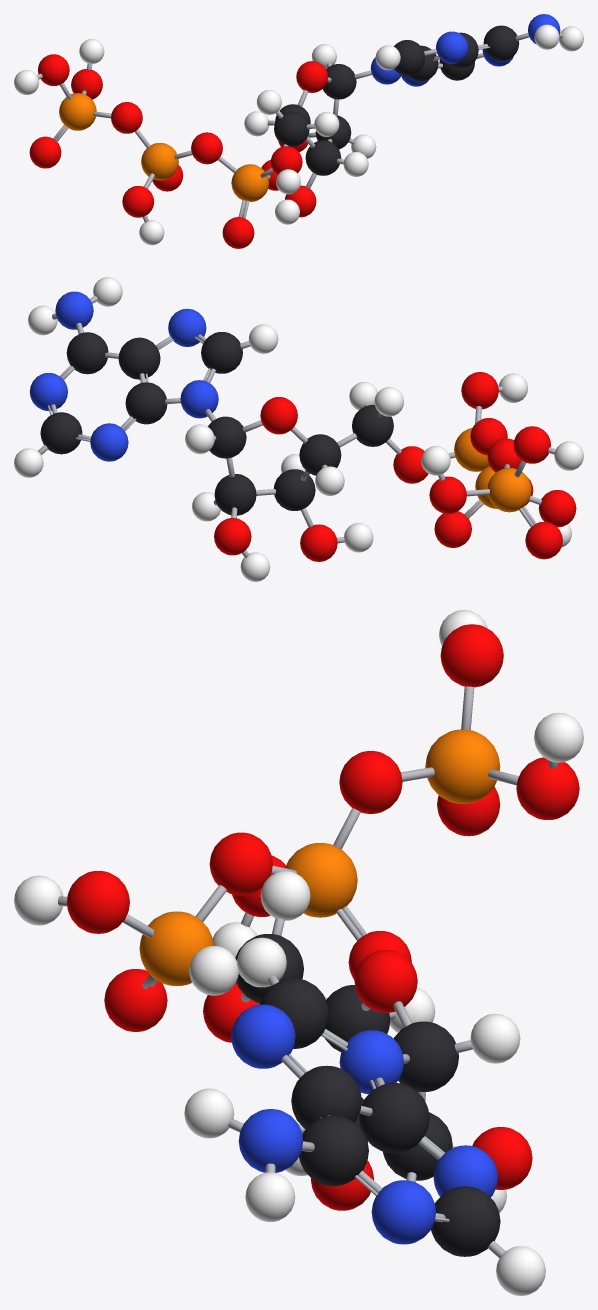
The model's file is atp.glb.
3 views of the same model, one above another, from view 1: azimuth 30°, elevation 25°; view 2: azimuth 150°, elevation 25°; view 3: azimuth 270°, elevation 25° (orthographic). The views are drawn at different scales.
Parts seen in each view (by area): view 1: P23, P15, P19, C13, C1, C27, C10, N7, C8, O18, O16, O24 (+28 smaller); view 2: P23, C5, C1, C3, C8, C6, C27, C29, C13, C12, C10, N4 (+32 smaller); view 3: P23, C5, C1, P15, C3, P19, C10, N2, C6, N7, N0, O25 (+28 smaller).
Part boxes in pixels (<box>): P23: <box>59,93,96,130</box>; P15: <box>231,164,268,201</box>; P19: <box>141,143,178,180</box>; C13: <box>274,111,309,146</box>; C1: <box>483,25,519,61</box>; C27: <box>305,140,341,175</box>; C10: <box>323,64,356,99</box>; N7: <box>436,31,468,63</box>; C8: <box>394,40,425,75</box>; O18: <box>191,132,222,164</box>; O16: <box>222,217,254,248</box>; O24: <box>29,136,61,168</box>; P23: <box>487,468,531,512</box>; C5: <box>125,382,167,424</box>; C1: <box>66,332,108,374</box>; C3: <box>40,412,82,454</box>; C8: <box>201,332,242,373</box>; C6: <box>118,337,160,379</box>; C27: <box>273,469,315,510</box>; C29: <box>214,474,256,515</box>; C13: <box>352,405,393,446</box>; C12: <box>299,434,341,475</box>; C10: <box>208,416,246,458</box>; N4: <box>90,423,128,461</box>; P23: <box>425,729,500,803</box>; C5: <box>359,1083,429,1153</box>; C1: <box>299,1115,368,1185</box>; P15: <box>139,911,213,985</box>; C3: <box>431,1186,500,1256</box>; P19: <box>285,843,357,917</box>; C10: <box>393,1021,458,1091</box>; N2: <box>371,1180,435,1244</box>; C6: <box>291,1065,361,1129</box>; N7: <box>231,1004,295,1068</box>; N0: <box>238,1109,303,1172</box>; O25: <box>440,624,503,687</box>.
Size of the model in its own units: 17.07 by 5.94 by 8.21.
